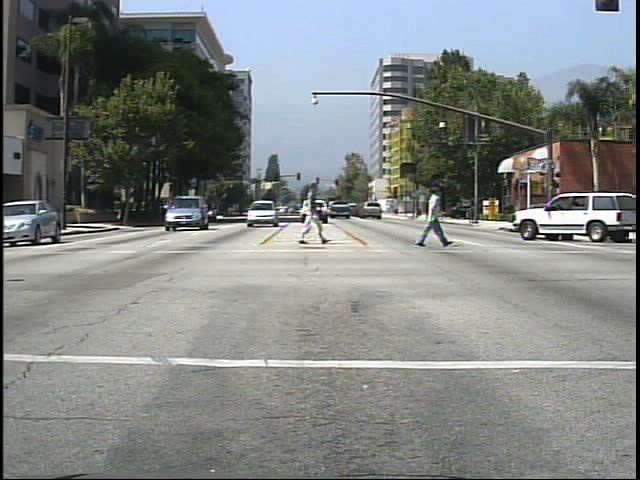person: (414, 176, 451, 254), (292, 175, 329, 249)
